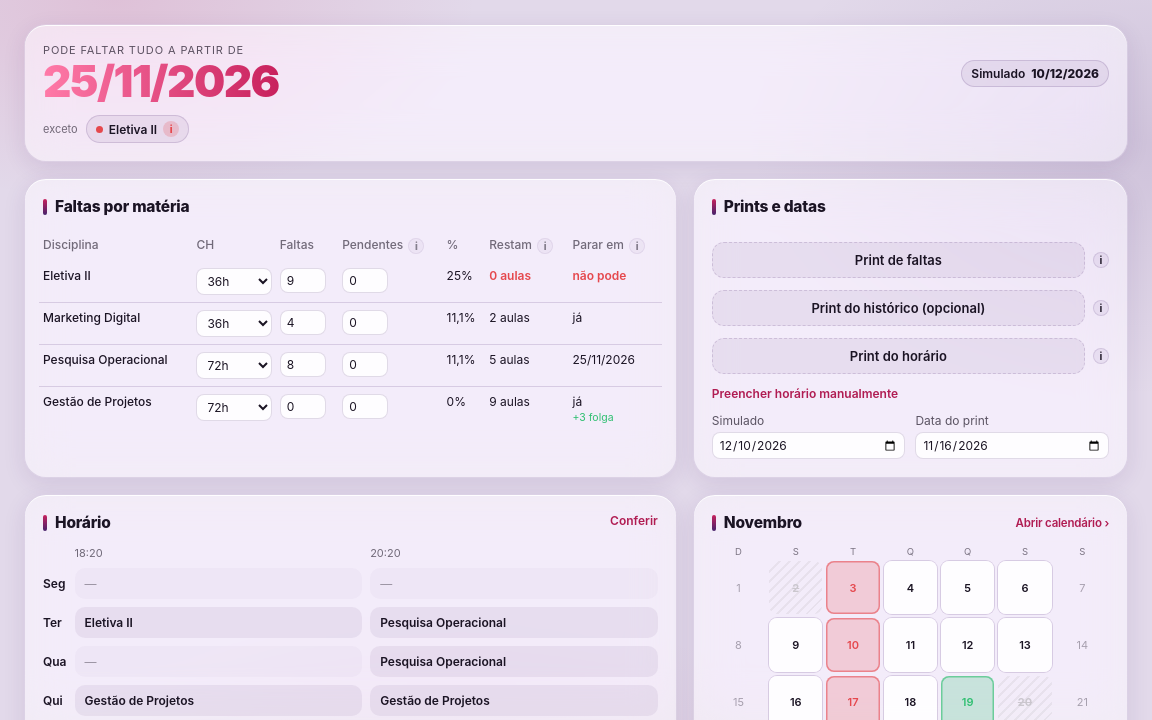
it: Faltas page › warns when the print date is not today
The width and height of the screenshot is (1152, 720).
Type "2026-11-10" into the date field named "Data do print de faltas" at (1012, 446), box [915,432,1109,459]
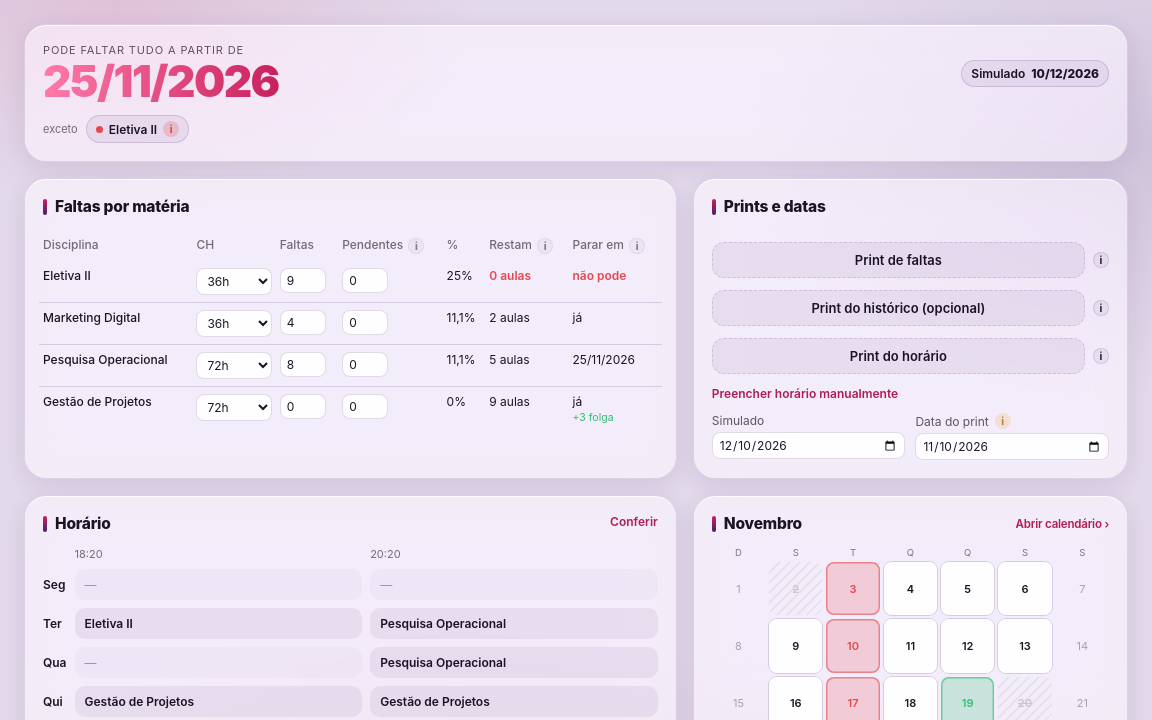
Now the text named "Confira se o portal já lançou todas as faltas." is shown, box [995,413,1011,429]
